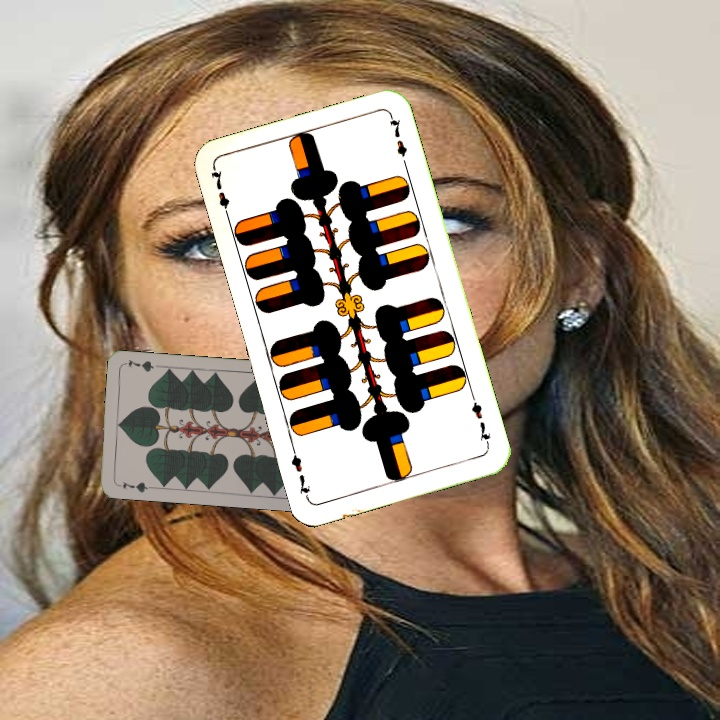E7: (467, 391, 494, 449), (206, 165, 233, 223)
G7: (113, 478, 154, 495)
